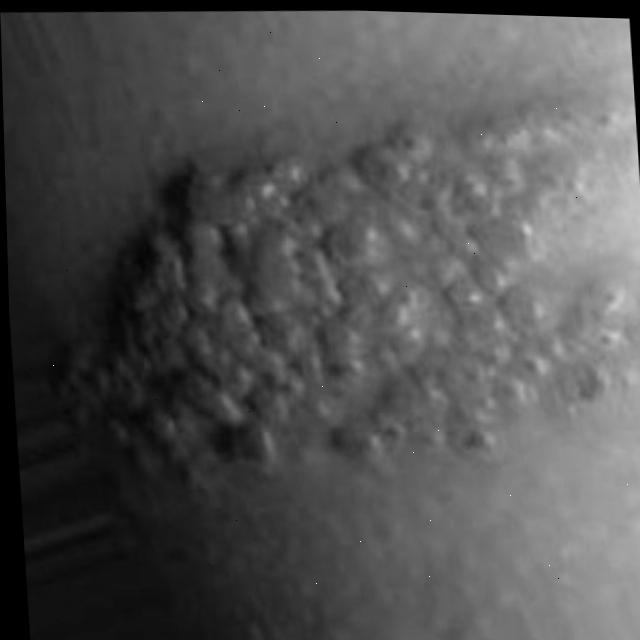Shingles: (35, 68, 640, 509)
